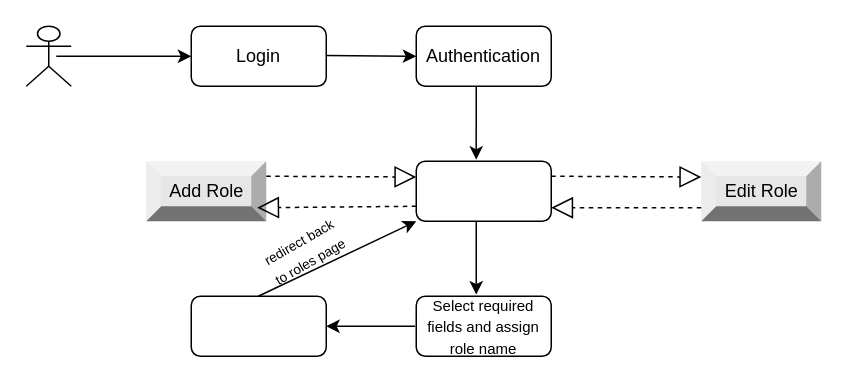
This 848x384 diagram has some shape labels left out. Here are the shapes that lost their labels. From the top down, the centre of each, then its label:
point (48, 55): User
point (483, 190): Roles Page
point (258, 325): New role created
